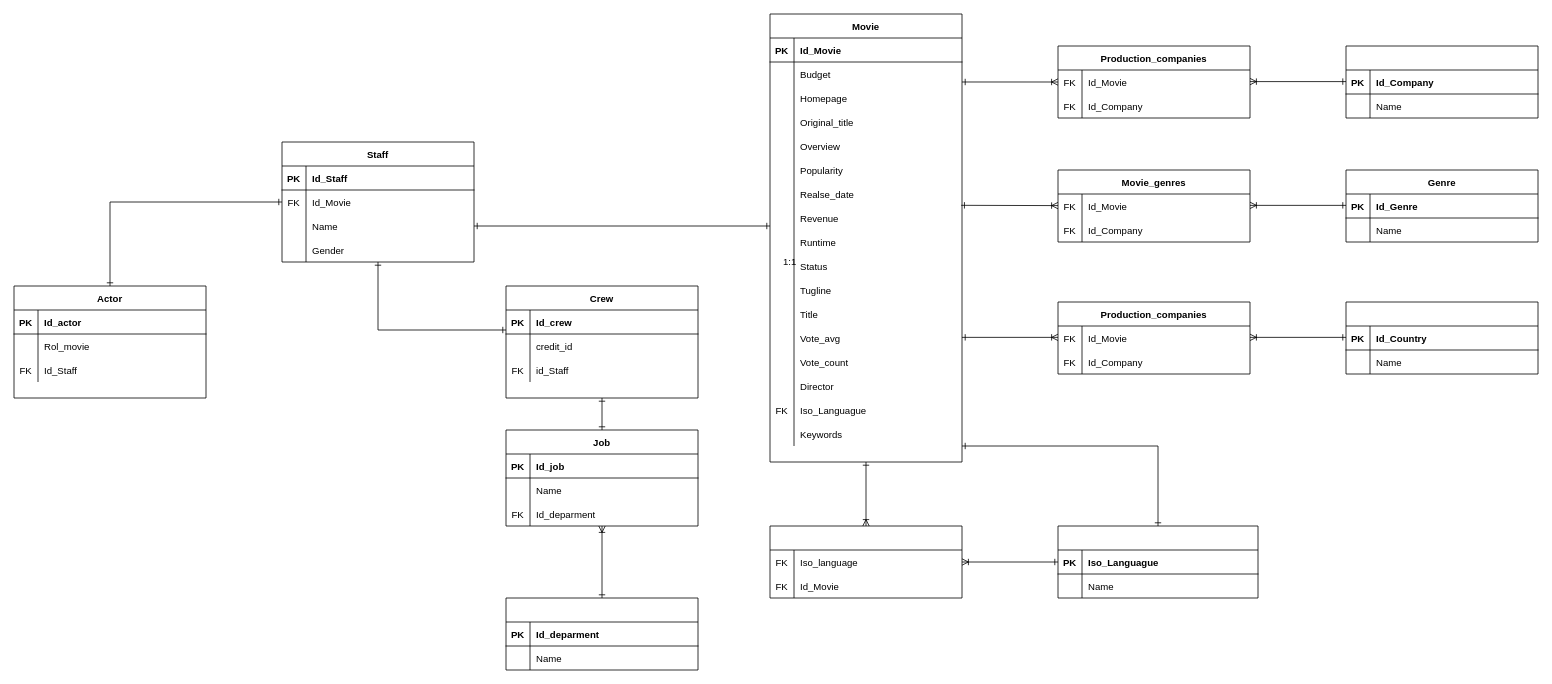
Some shapes in this 1552 by 684 pixel diagram are drawn without their labels. Here are the shapes that lost their labels. From the top down, the box of each, then its label:
(1345, 45, 1538, 118): Companies
(1345, 301, 1538, 374): Countries
(769, 525, 962, 598): Dubbling
(1057, 525, 1258, 598): Languages
(505, 597, 698, 670): Department
